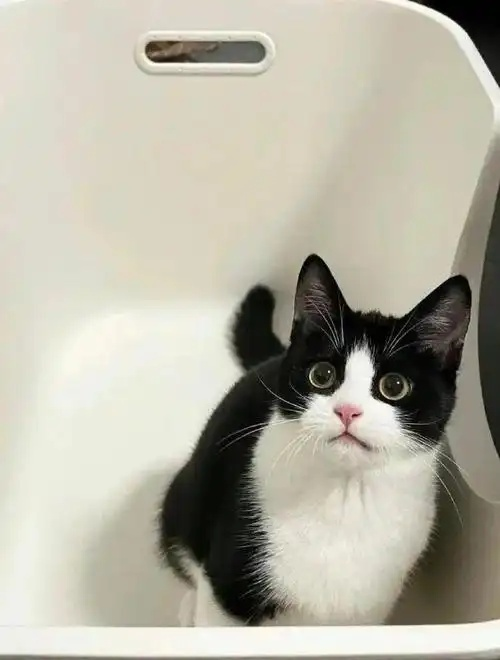奶牛猫: (161, 254, 470, 623)
